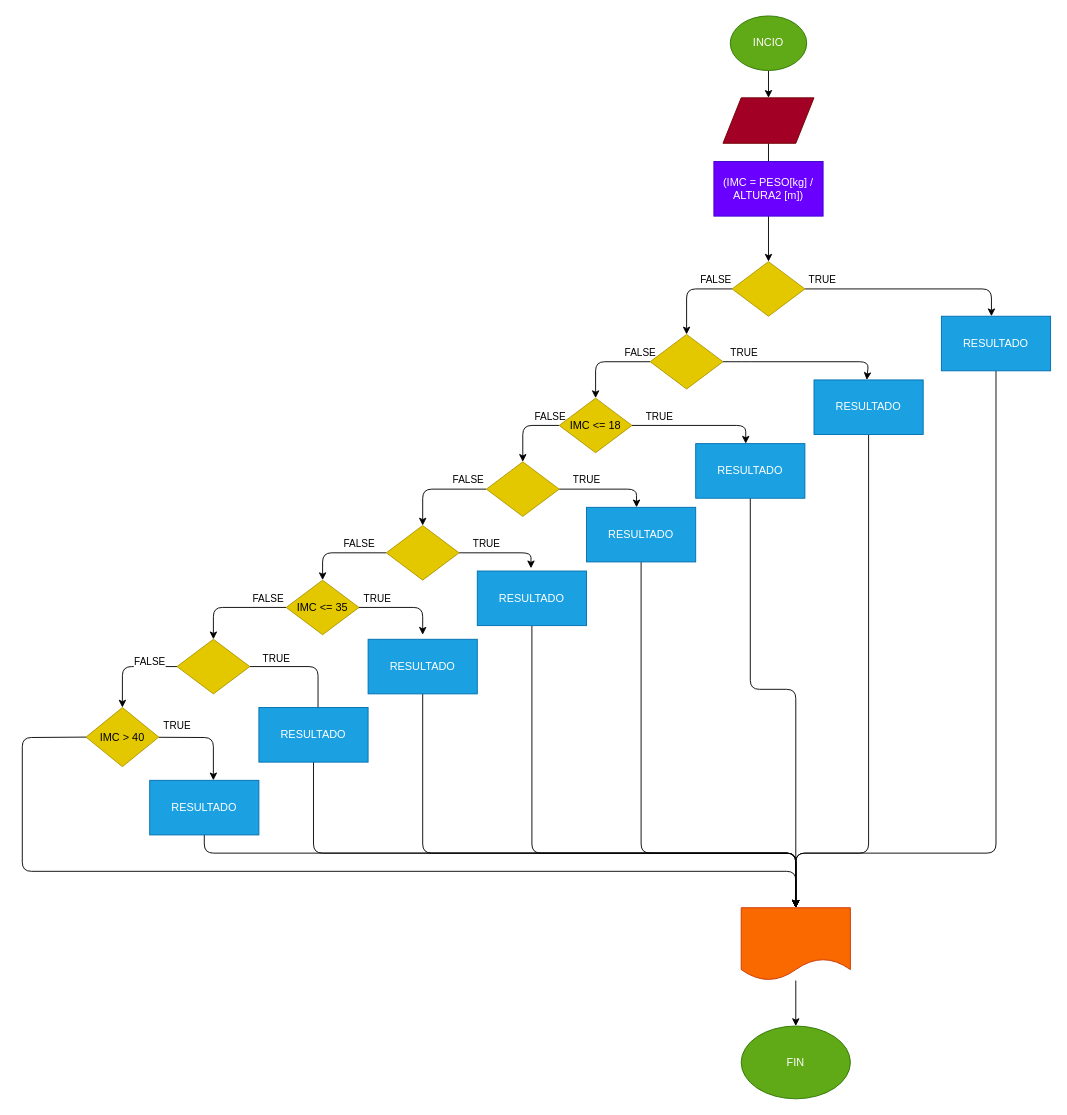
The diagram is 1067 pixels wide and 1115 high, and some of its shapes have lost their labels. Here are the shapes that lost their labels. From the top down, the box of each, then its label:
(722, 97, 814, 143): PESO , ALTURA
(731, 261, 805, 316): IMC < 16
(649, 334, 723, 389): IMC <= 17
(485, 461, 559, 516): IMC <= 25
(385, 525, 459, 580): IMC <= 30
(176, 638, 250, 694): IMC < 40
(740, 907, 850, 981): PRINT ("RESULTADO")
